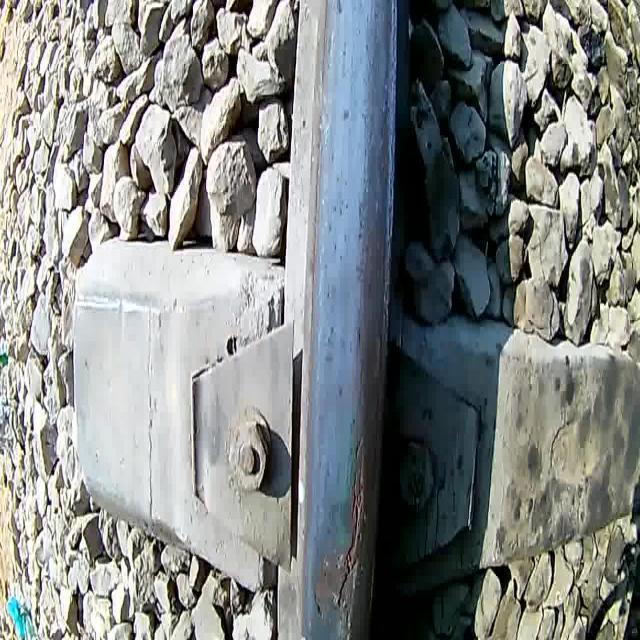Cracks: (336, 429, 364, 615)
Squats: (310, 425, 370, 640)
